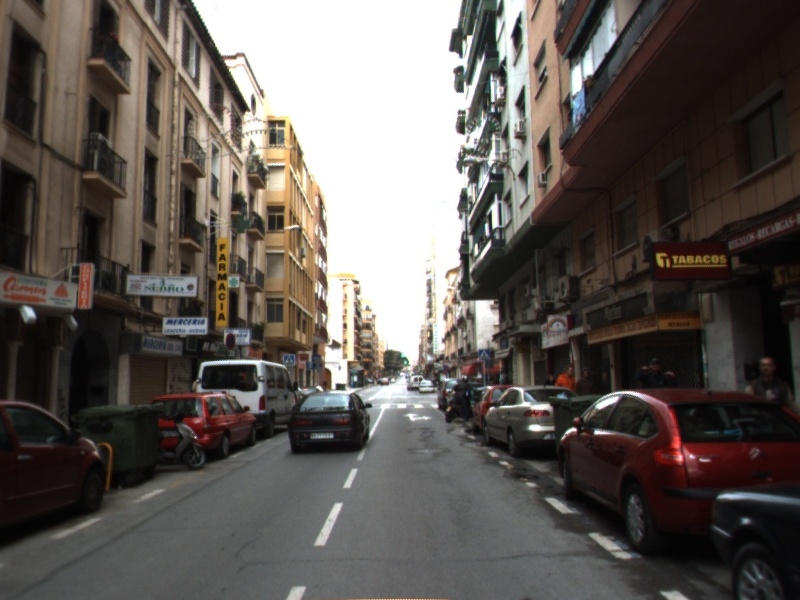STRAIGHT_RIGHT: (401, 411, 435, 423)
